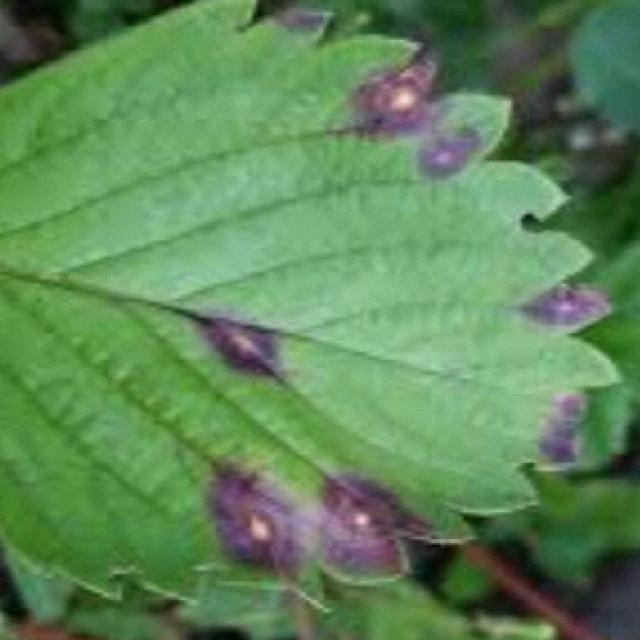Leaf Spot: (0, 0, 632, 615)
